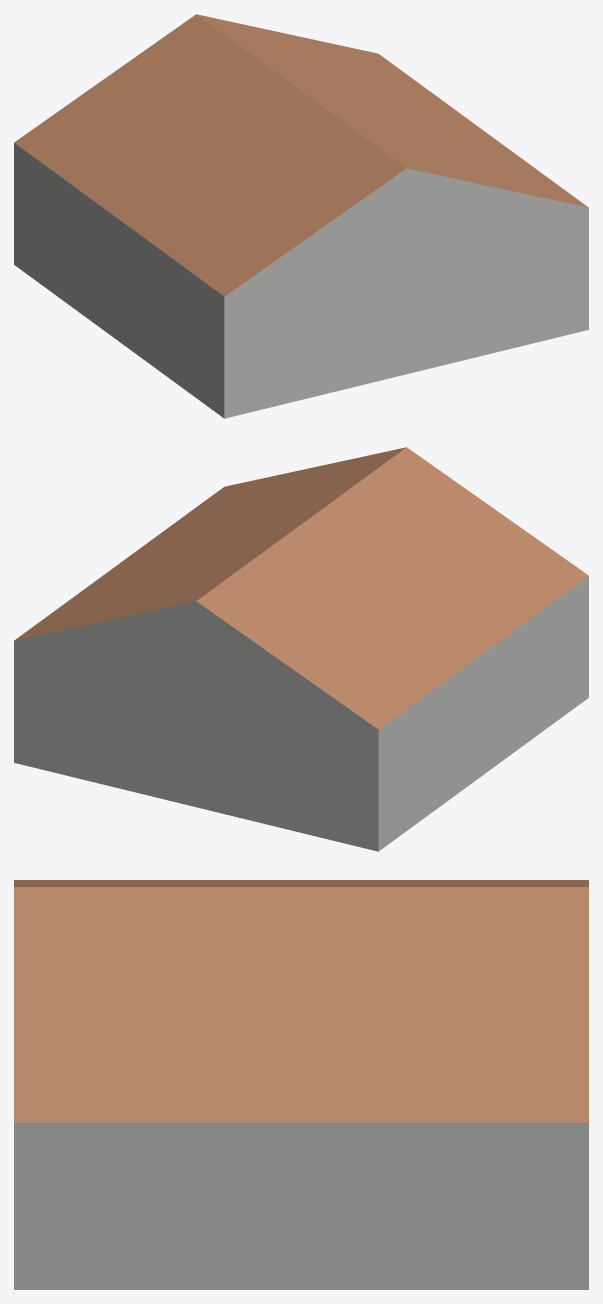
Rendered from casa_longe_2.glb.
The picture shows the model from 3 angles, top to bottom: view 1: azimuth 30°, elevation 25°; view 2: azimuth 150°, elevation 25°; view 3: azimuth 270°, elevation 25°; orthographic projection. The views are drawn at different scales.
Visible parts, largest first — view 1: w, t; view 2: w, t; view 3: t, w.
Boxes of the visible parts, x1=… form: w: x1=14, y1=143, x2=588, y2=418; t: x1=14, y1=14, x2=588, y2=296; w: x1=14, y1=576, x2=588, y2=851; t: x1=14, y1=447, x2=588, y2=729; t: x1=14, y1=880, x2=588, y2=1122; w: x1=14, y1=1123, x2=588, y2=1289.
Size of the model in its own units: 10 by 5.4 by 10.
